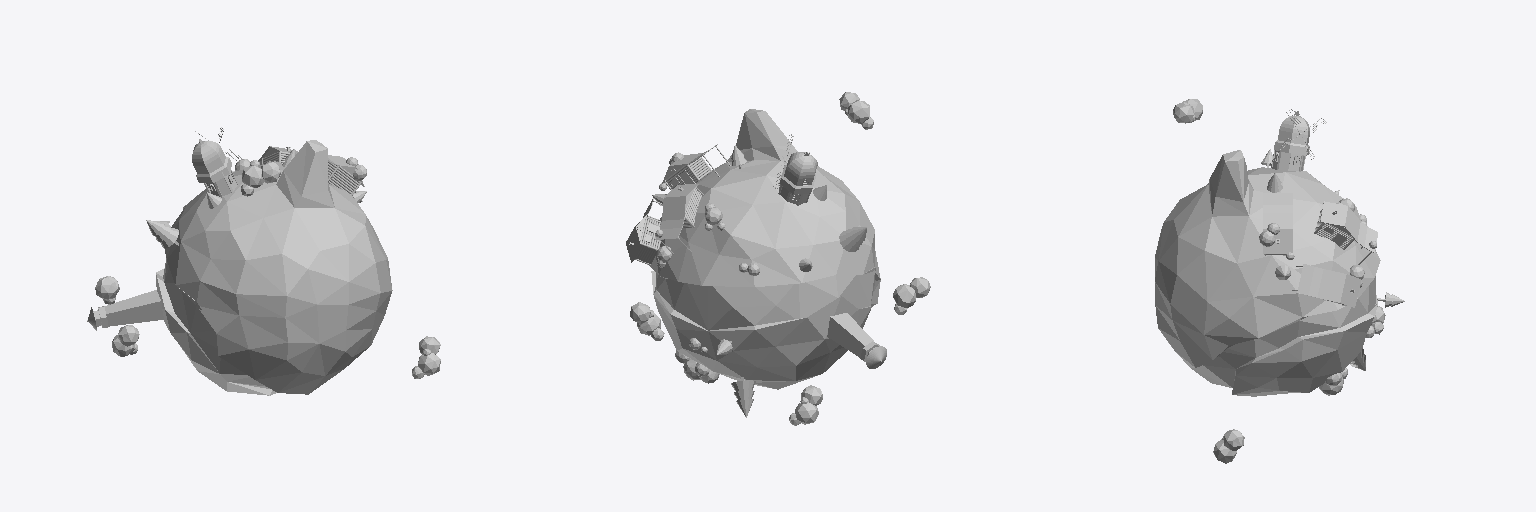
File: boll.obj
3 views of the same model, side by side, from view 1: azimuth 30°, elevation 25°; view 2: azimuth 150°, elevation 25°; view 3: azimuth 270°, elevation 25° (orthographic).
Parts seen in each view (by area): view 1: 球体.1, 立方体_7, 胶囊; view 2: 球体.1, 立方体_9, 胶囊, 立方体_7; view 3: 球体.1, 立方体_11, 立方体_13, 立方体_9, 胶囊.
Part boxes in pixels (x1,y1,x2,y2): 球体.1: (156, 140, 392, 395); 立方体_7: (104, 290, 163, 326); 胶囊: (192, 141, 231, 183); 球体.1: (649, 109, 880, 389); 立方体_9: (655, 184, 698, 239); 胶囊: (779, 152, 817, 194); 立方体_7: (827, 313, 873, 357); 球体.1: (1155, 150, 1380, 396); 立方体_11: (1297, 264, 1360, 307); 立方体_13: (1263, 193, 1292, 253); 立方体_9: (1320, 201, 1377, 252); 胶囊: (1274, 115, 1309, 155).
Size of the model in its own units: 1160 by 947 by 786.